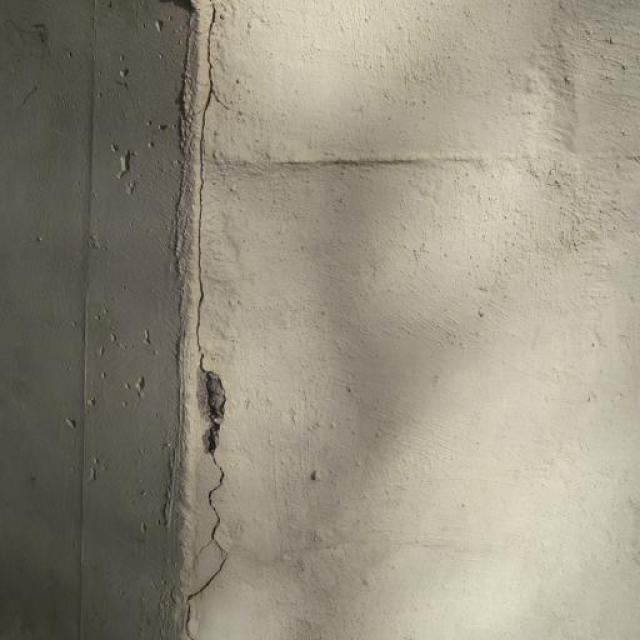D10: (199, 369, 226, 454)
